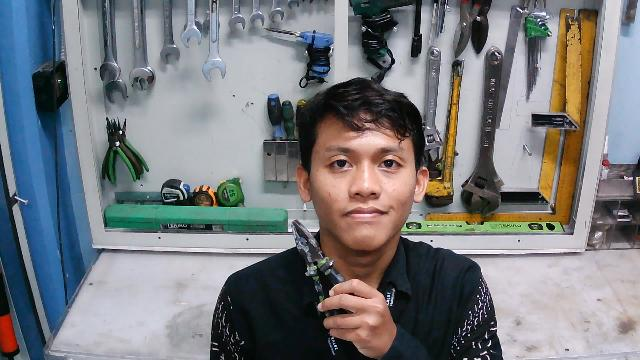tang_kombinasi: (288, 217, 363, 352)
